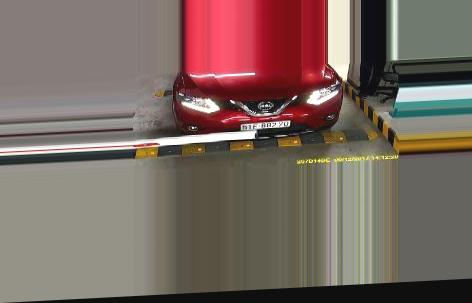License_Plate: (240, 119, 291, 134)
